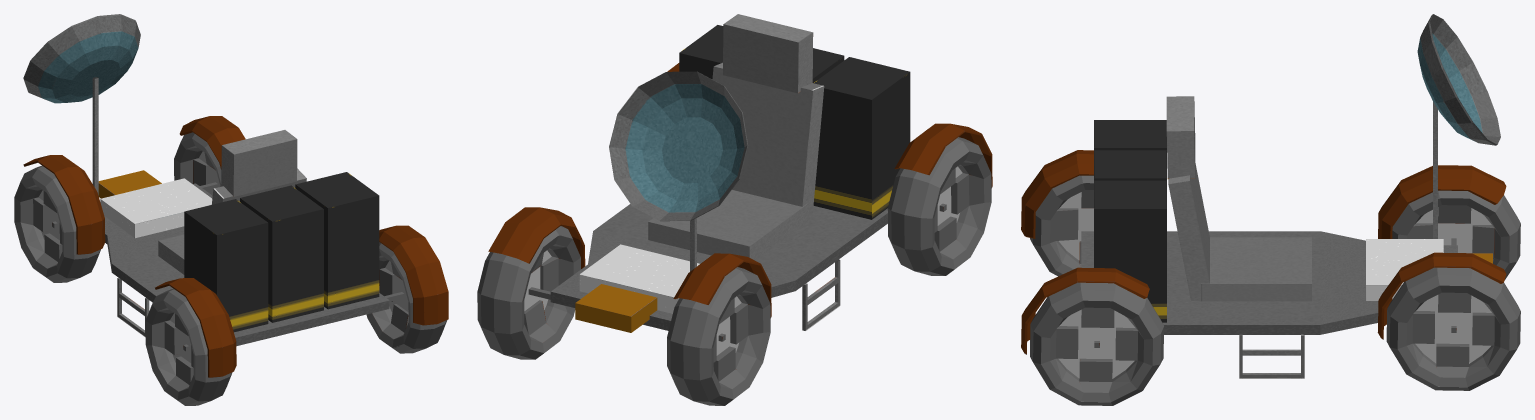
File: buggy.obj
The picture shows the model from 3 angles, left to right: view 1: azimuth 30°, elevation 25°; view 2: azimuth 150°, elevation 25°; view 3: azimuth 270°, elevation 25°; orthographic projection. The views are drawn at different scales.
Visible parts, largest first — view 1: MainBody, Wheel_Back_Left, Wheel_Front_Left, CargoLeft, Wheel_Back_Right, CargoRight, CargoMid, RadarDish_Dish, Wheel_Front_Right; view 2: MainBody, RadarDish_Dish, Wheel_Front_Left, Wheel_Back_Left, CargoLeft, Wheel_Front_Right, CargoRight, CargoMid; view 3: MainBody, Wheel_Front_Right, Wheel_Back_Right, Wheel_Front_Left, CargoRight, Wheel_Back_Left, RadarDish_Dish, CargoMid, CargoLeft.
Boxes of the visible parts, box(x1,y1,x2,y2) form: MainBody: box(92, 77, 389, 346); Wheel_Back_Left: box(145, 278, 236, 405); Wheel_Front_Left: box(14, 155, 105, 282); CargoLeft: box(184, 199, 268, 332); Wheel_Back_Right: box(366, 225, 448, 353); CargoRight: box(295, 172, 379, 309); CargoMid: box(240, 185, 323, 322); RadarDish_Dish: box(23, 14, 140, 103); Wheel_Front_Right: box(174, 116, 245, 195); MainBody: box(550, 14, 887, 332); RadarDish_Dish: box(609, 71, 748, 221); Wheel_Front_Left: box(667, 253, 771, 405); Wheel_Back_Left: box(887, 123, 992, 275); CargoLeft: box(813, 57, 910, 219); Wheel_Front_Right: box(477, 207, 585, 359); CargoRight: box(679, 25, 723, 78); CargoMid: box(812, 48, 844, 82); MainBody: box(1081, 96, 1492, 378); Wheel_Front_Right: box(1377, 252, 1520, 390); Wheel_Back_Right: box(1021, 267, 1164, 405); Wheel_Front_Left: box(1378, 165, 1520, 280); CargoRight: box(1094, 180, 1166, 322); Wheel_Back_Left: box(1021, 150, 1093, 276); RadarDish_Dish: box(1417, 14, 1500, 145); CargoMid: box(1094, 150, 1166, 180); CargoLeft: box(1094, 120, 1166, 150).
Size of the model in its own units: 5.91 by 5.85 by 9.02.
